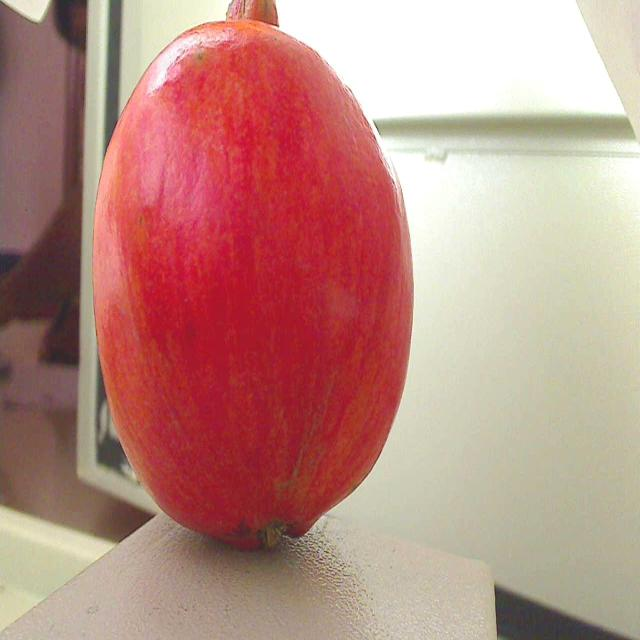pomegranate: (79, 0, 422, 566)
